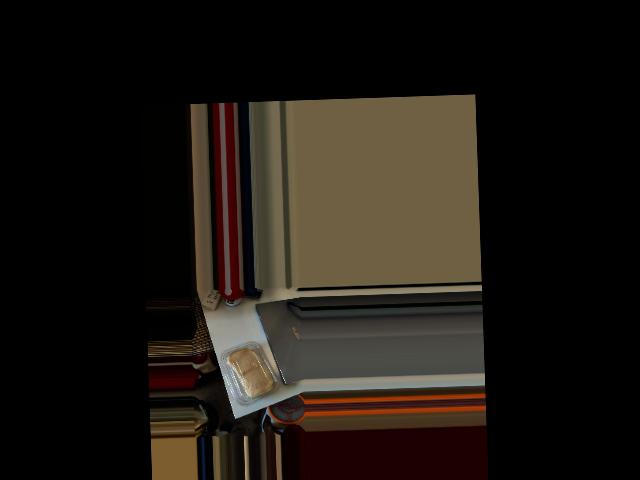cheese: (219, 338, 280, 410)
